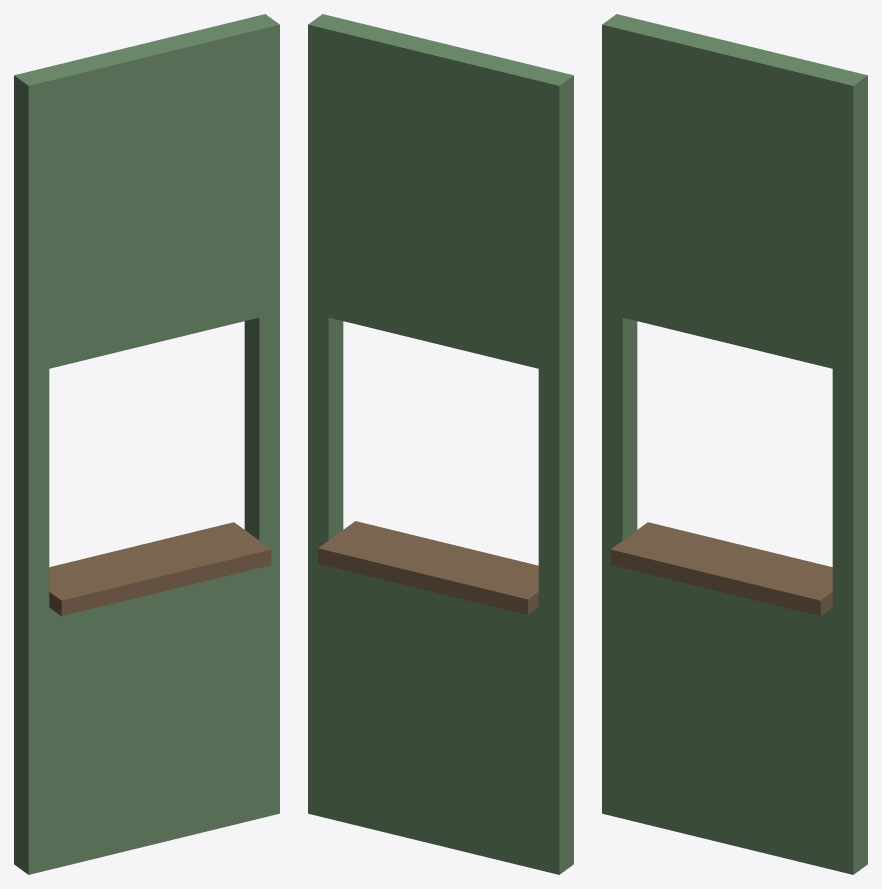
File: Mesh_Wall_F2.fbx
3 renders of one model, left to right at view 1: azimuth 30°, elevation 25°; view 2: azimuth 150°, elevation 25°; view 3: azimuth 330°, elevation 25°, orthographic.
Visible parts, largest first — view 1: Mesh_Wall_F2; view 2: Mesh_Wall_F2; view 3: Mesh_Wall_F2.
Part boxes in pixels (x1,y1,x2,y2): Mesh_Wall_F2: (14, 14, 279, 874); Mesh_Wall_F2: (308, 14, 573, 874); Mesh_Wall_F2: (602, 14, 867, 874).
Size of the model in its own units: 1 by 3 by 0.2574.
